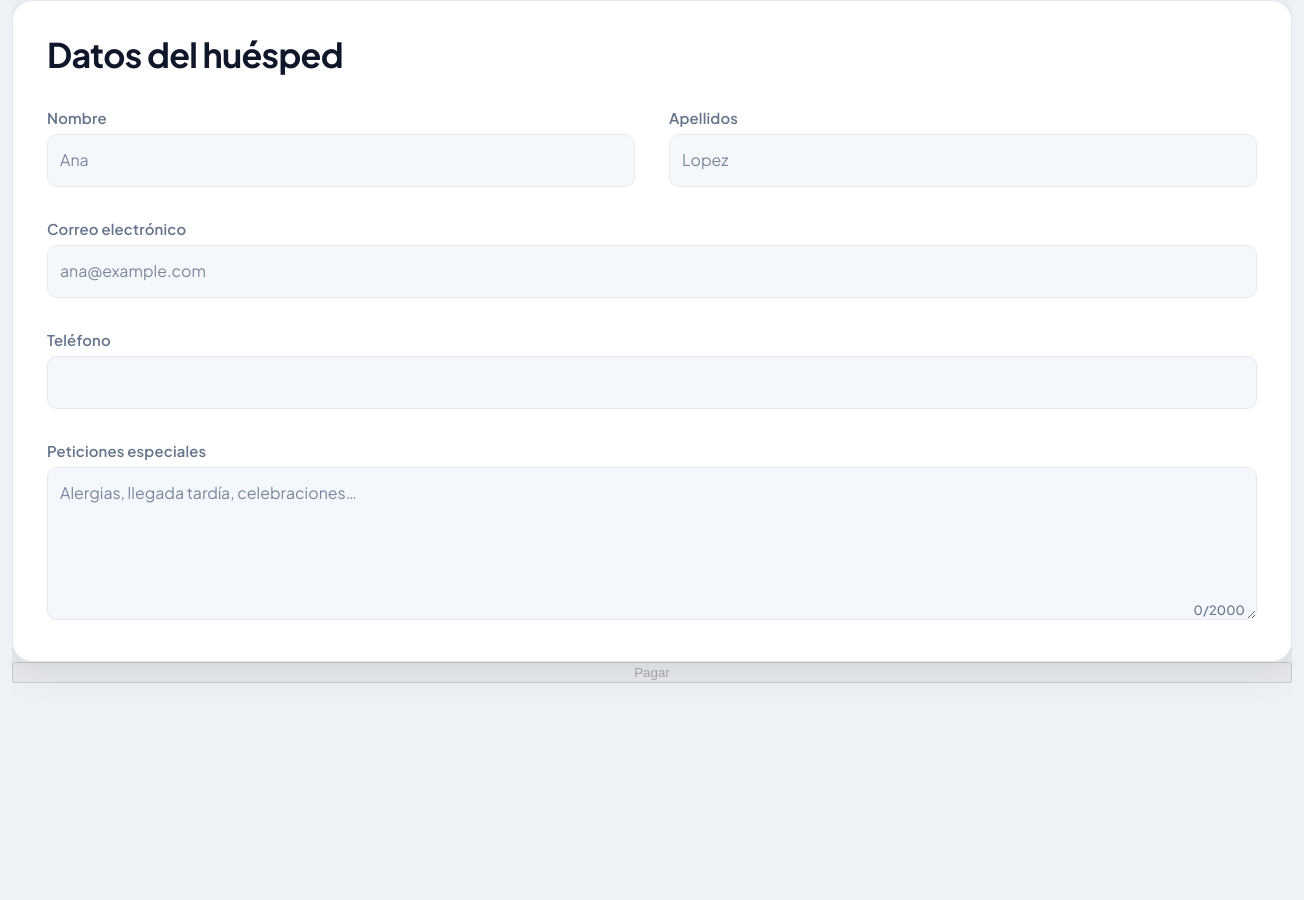
GuestForm pre-fill desde el JWT › deja teléfono editable y desbloquea el pago cuando el usuario lo completa
Expected: the button with test id "pay" is disabled, x1=12 y1=662 x2=1292 y2=683
Type "600123456" into the field labelled "Teléfono".
click(652, 382); type("600123456")  # box x1=47 y1=356 x2=1257 y2=409
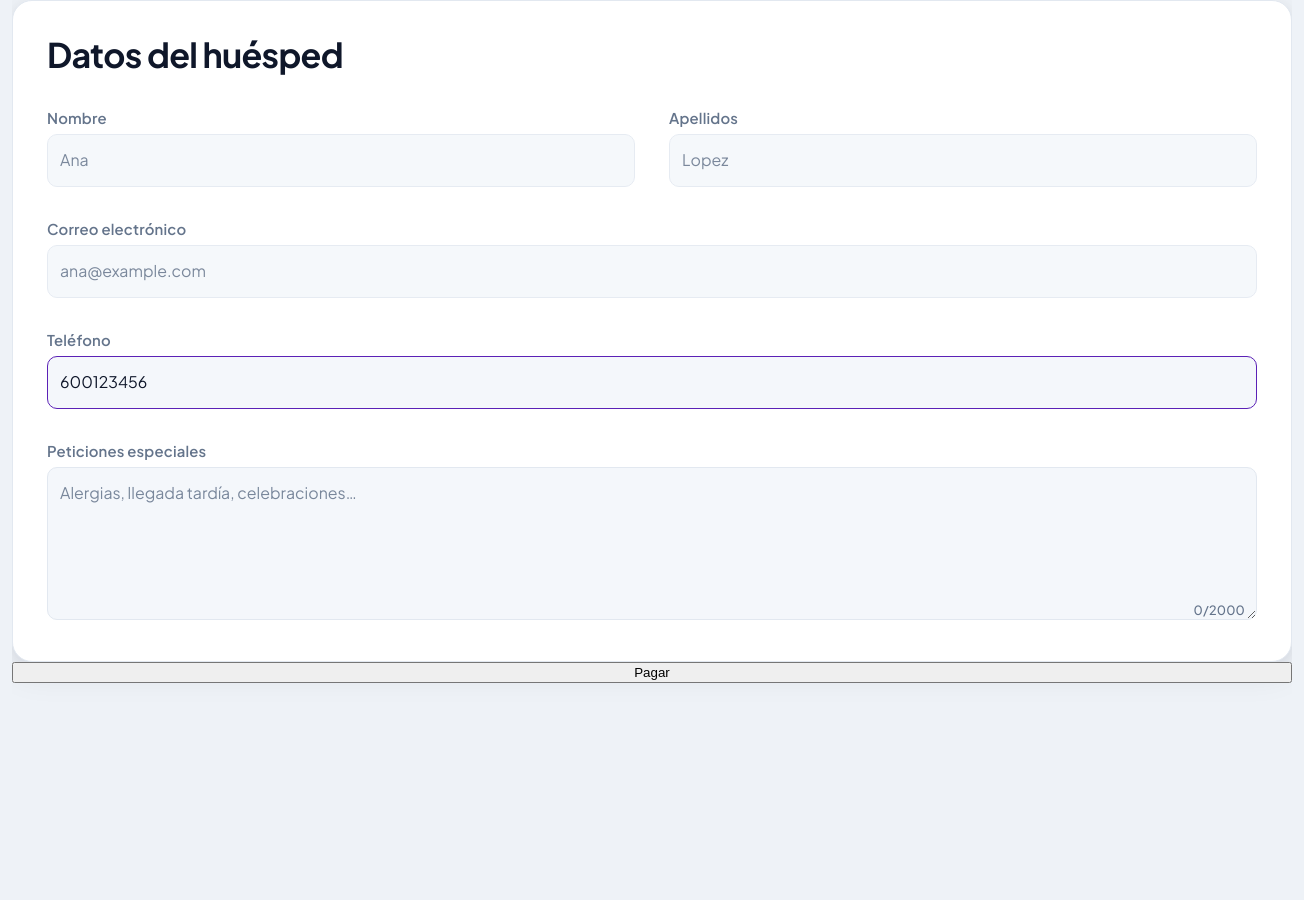
Result: the button with test id "pay" is enabled at x1=12 y1=662 x2=1292 y2=683
